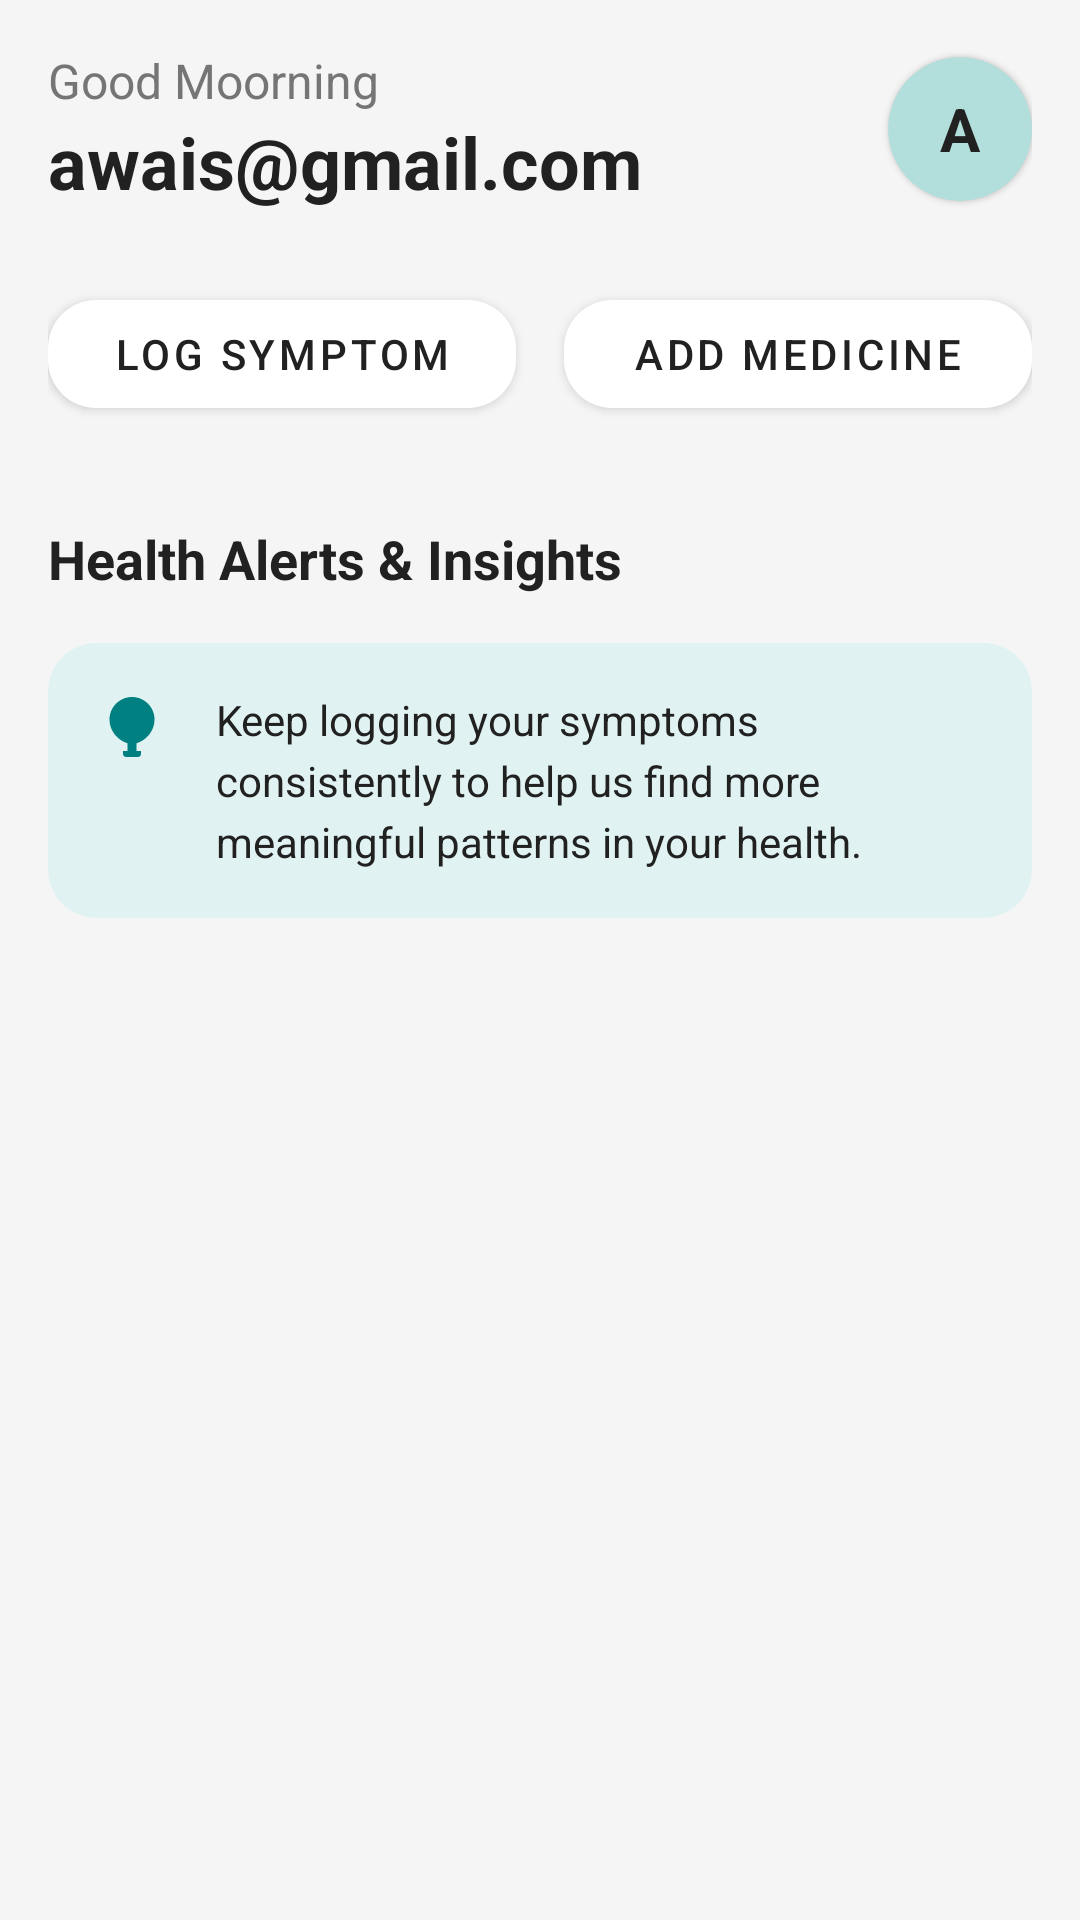

Where icons sit on this 1080 × 1920 app screen, as (x1, y1, x2, y2):
lightbulb: (109, 697, 155, 757)
